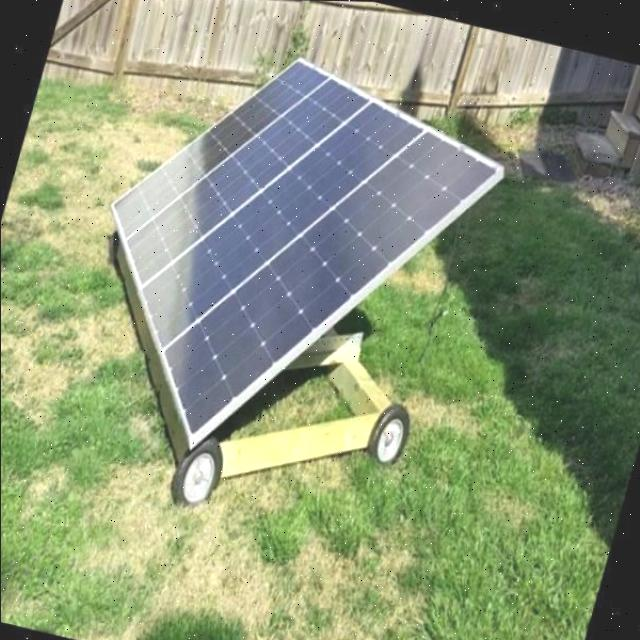Normal Solar Panel: (54, 21, 521, 490)
